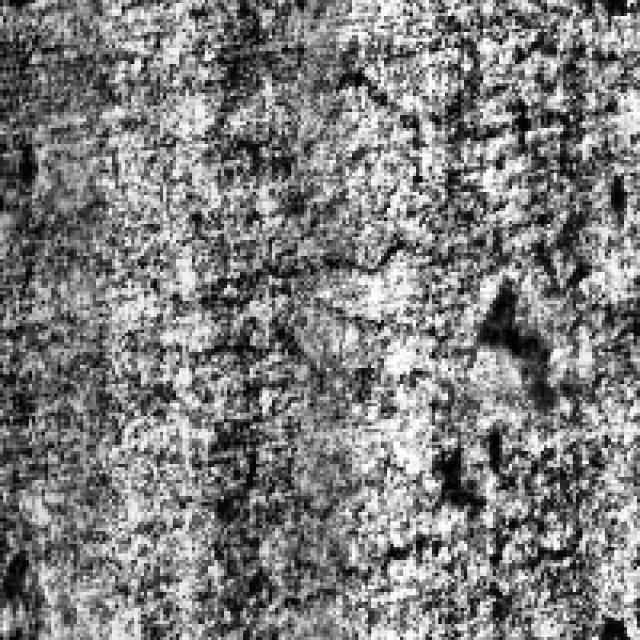Pitted_Surface: (288, 64, 426, 336)
